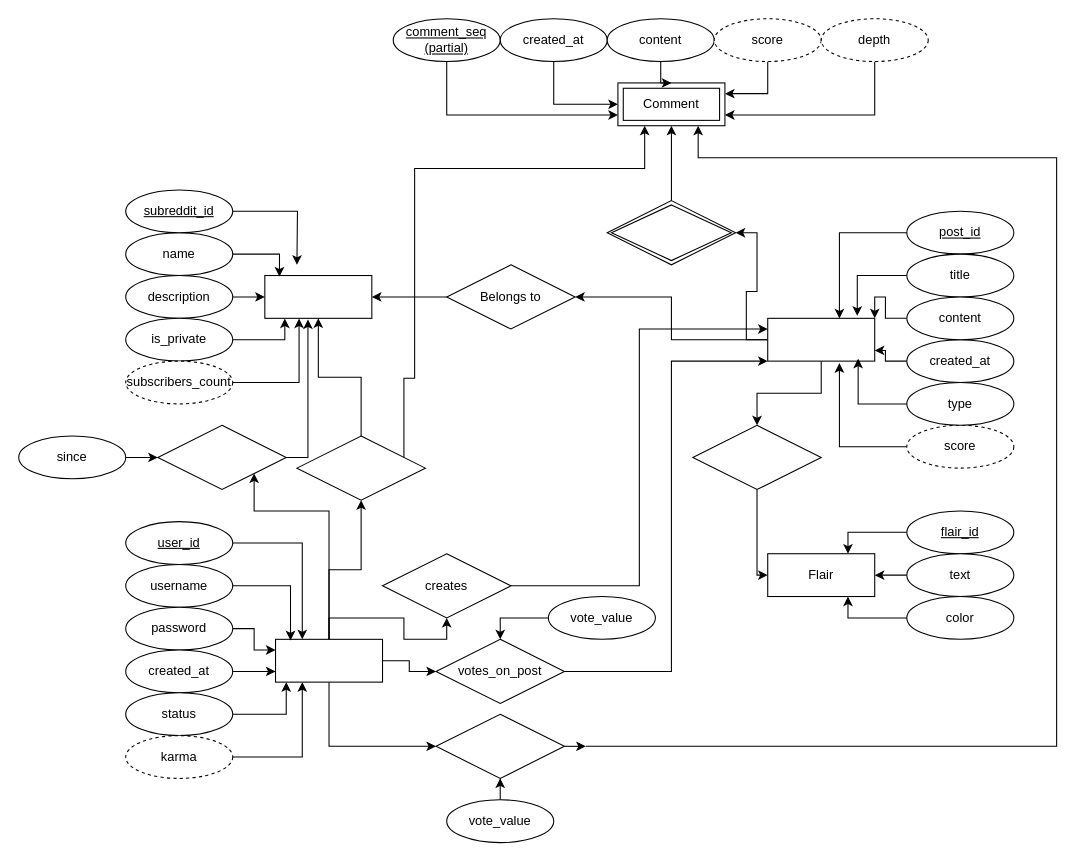
Some shapes in this 1084 by 861 pixel diagram are drawn without their labels. Each missing label, with the box of its shape:
has_comment: (606, 200, 736, 265)
has_flair: (692, 424, 821, 490)
Post: (767, 317, 875, 361)
Subreddit: (264, 274, 372, 318)
subscribes: (157, 424, 286, 490)
User: (274, 638, 383, 682)
votes_on_comment: (435, 713, 564, 778)
writes: (296, 435, 425, 500)
